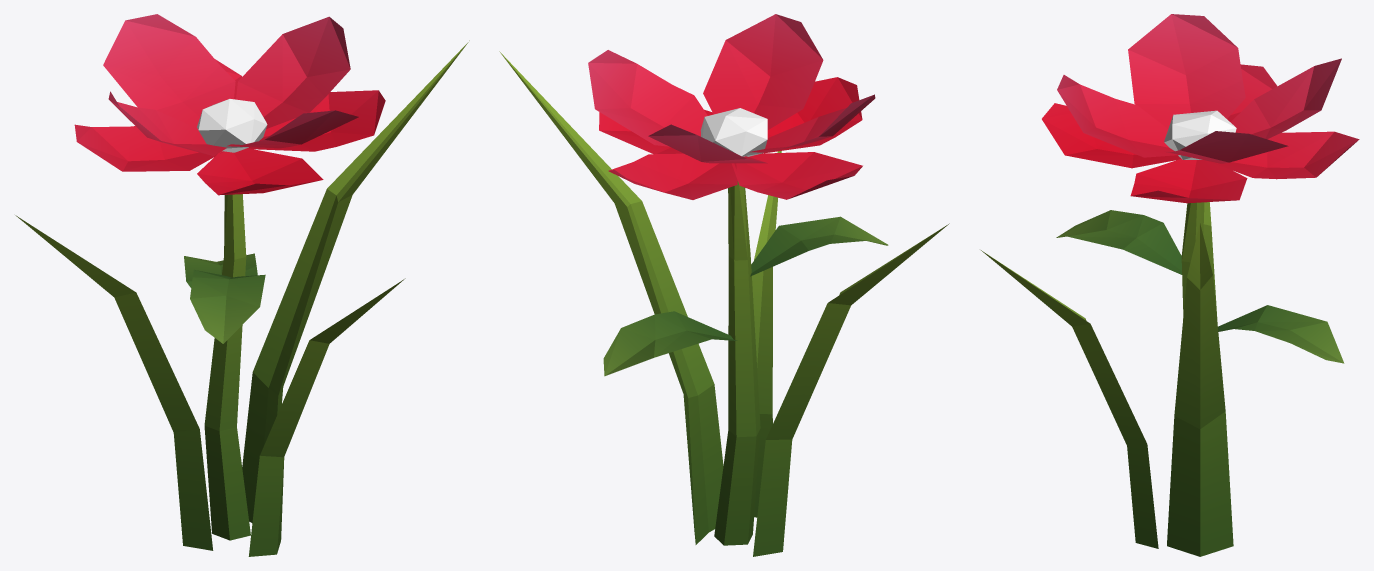
The model's file is Flower_04.fbx.
The picture shows the model from 3 angles, left to right: view 1: azimuth 30°, elevation 25°; view 2: azimuth 150°, elevation 25°; view 3: azimuth 270°, elevation 25°; orthographic projection.
Visible parts, largest first — view 1: Flower_04; view 2: Flower_04; view 3: Flower_04.
Boxes of the visible parts, x1,y1,x2,y2 form: Flower_04: [15, 14, 469, 556]; Flower_04: [499, 14, 949, 556]; Flower_04: [981, 14, 1359, 556].
Bounding box in the file's own units: 0.441 × 0.4354 × 0.3234.
